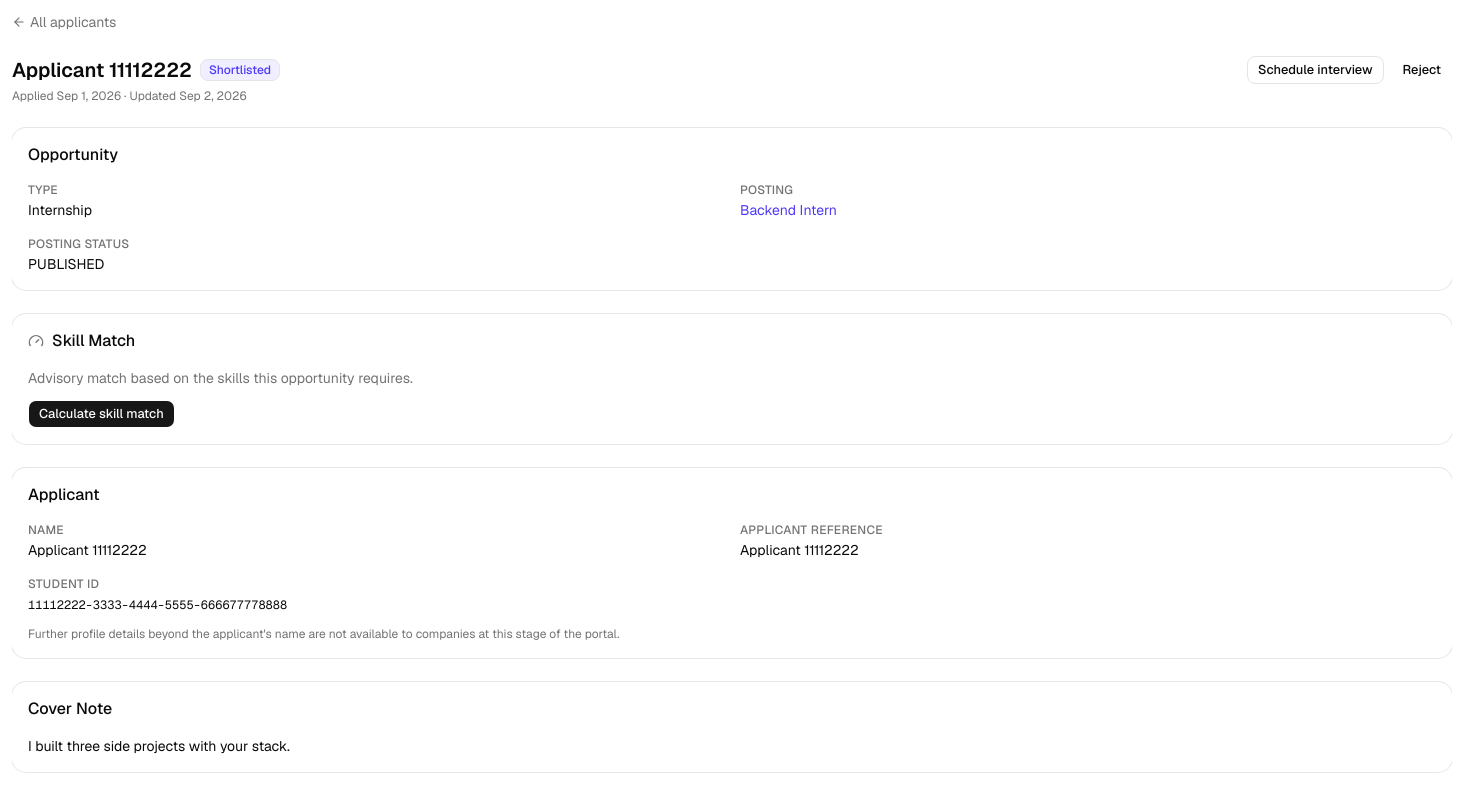
Test: ApplicationDetailView › shows the Skill Match card idle, and calculates on demand without auto-running
Expected: the heading "Applicant 11112222" is shown, [12, 56, 192, 84]
Expected: the text "Skill Match" is shown, [28, 330, 135, 351]
Click the button "Calculate skill match": (101, 414) [28, 400, 175, 428]
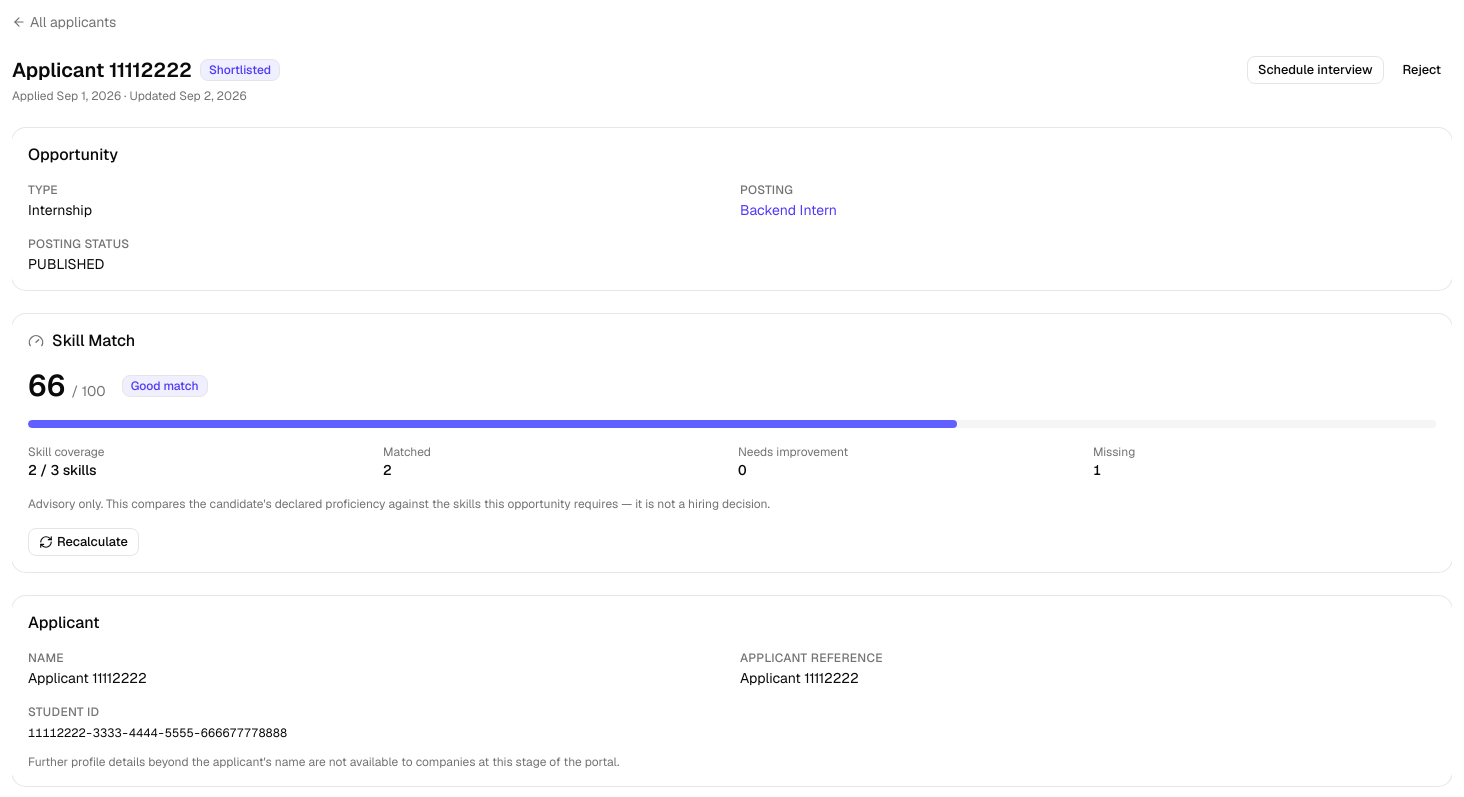
Result: the text "66" is shown at [28, 368, 66, 404]
